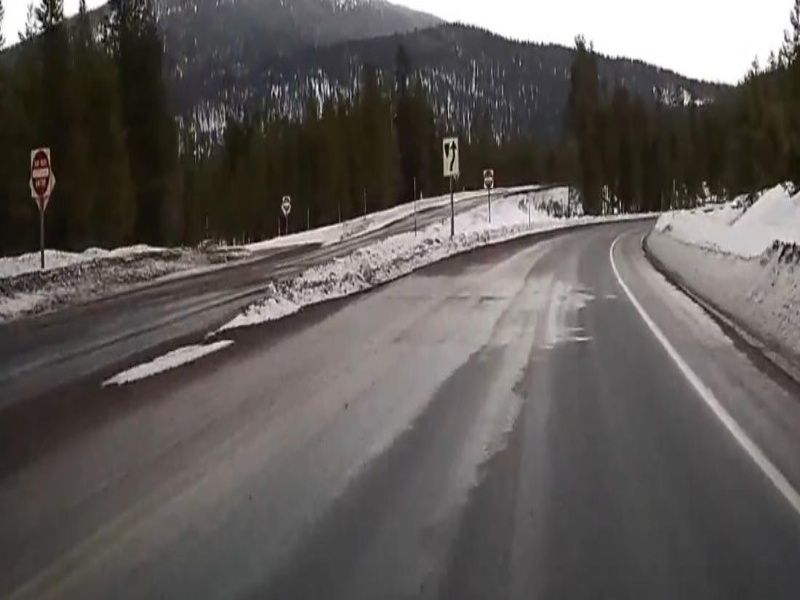pothole: (476, 293, 500, 303)
